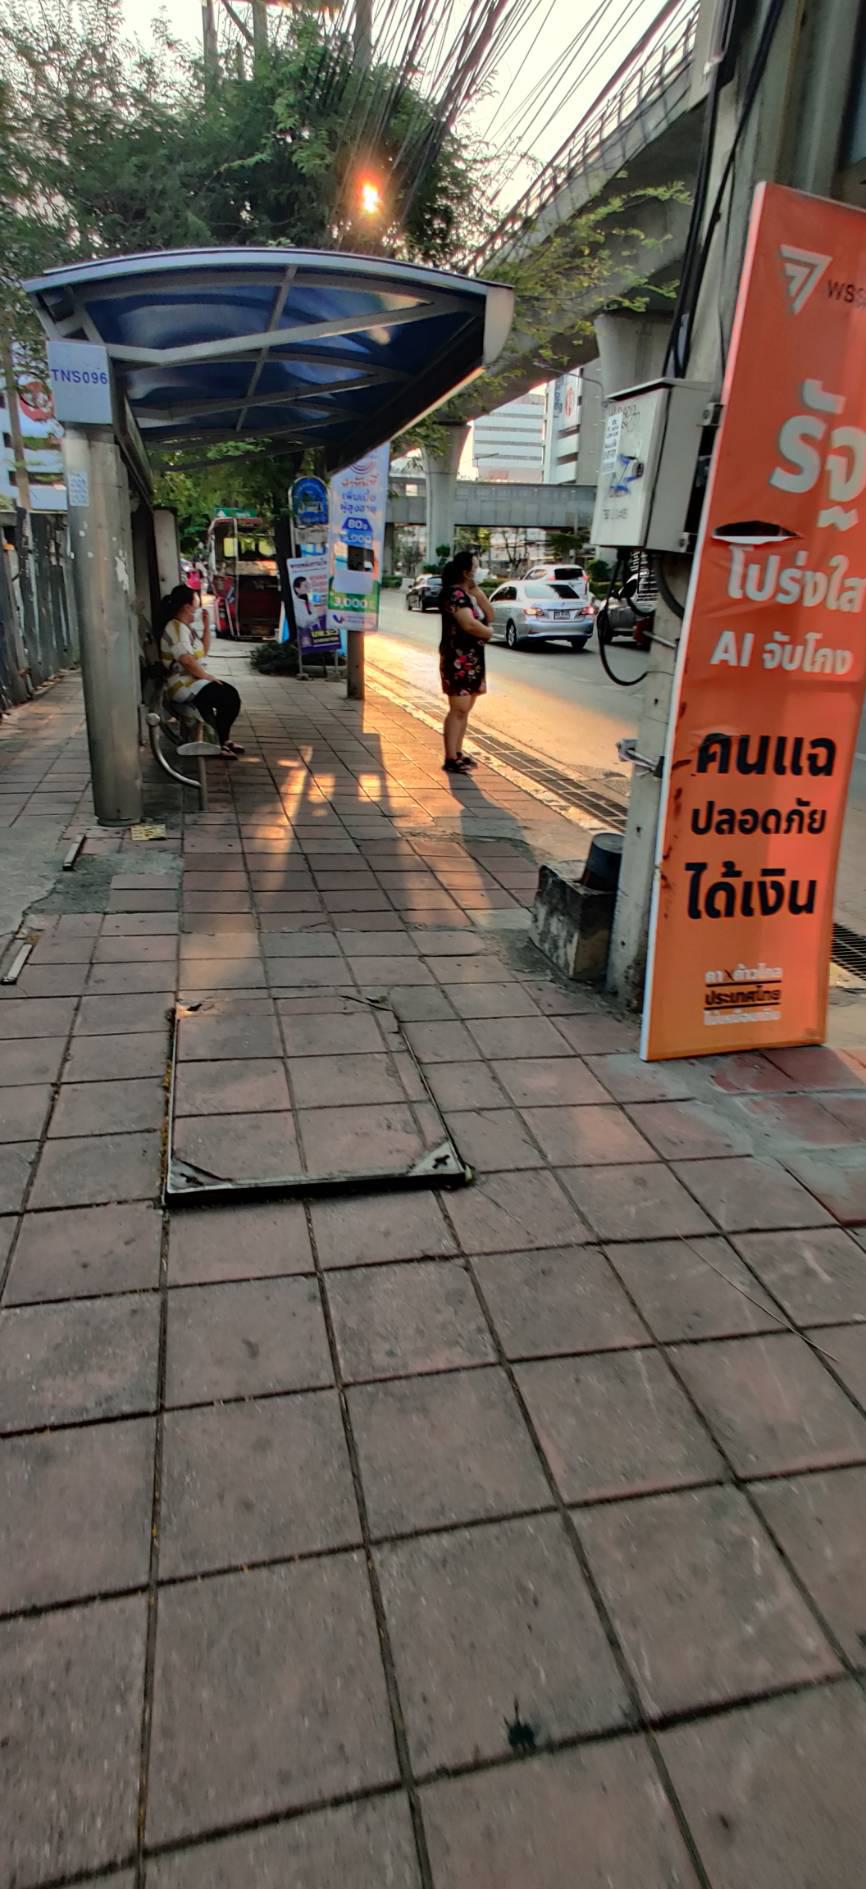Banner: (631, 198, 866, 1052)
